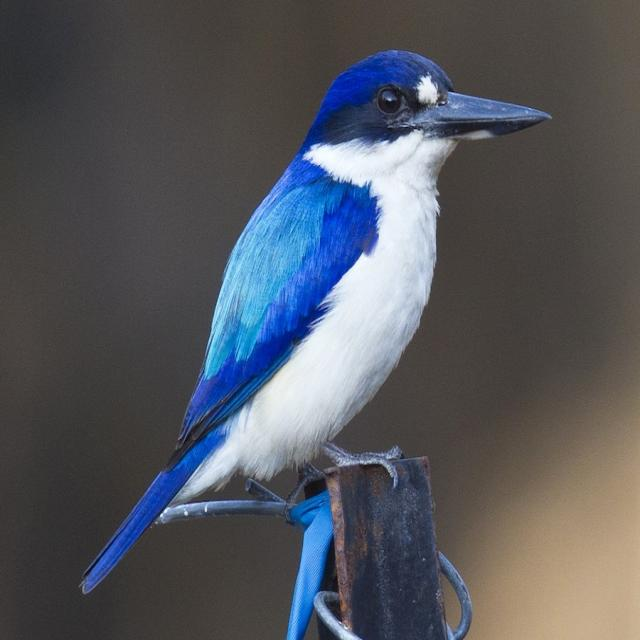kingfisher: (71, 23, 552, 600)
